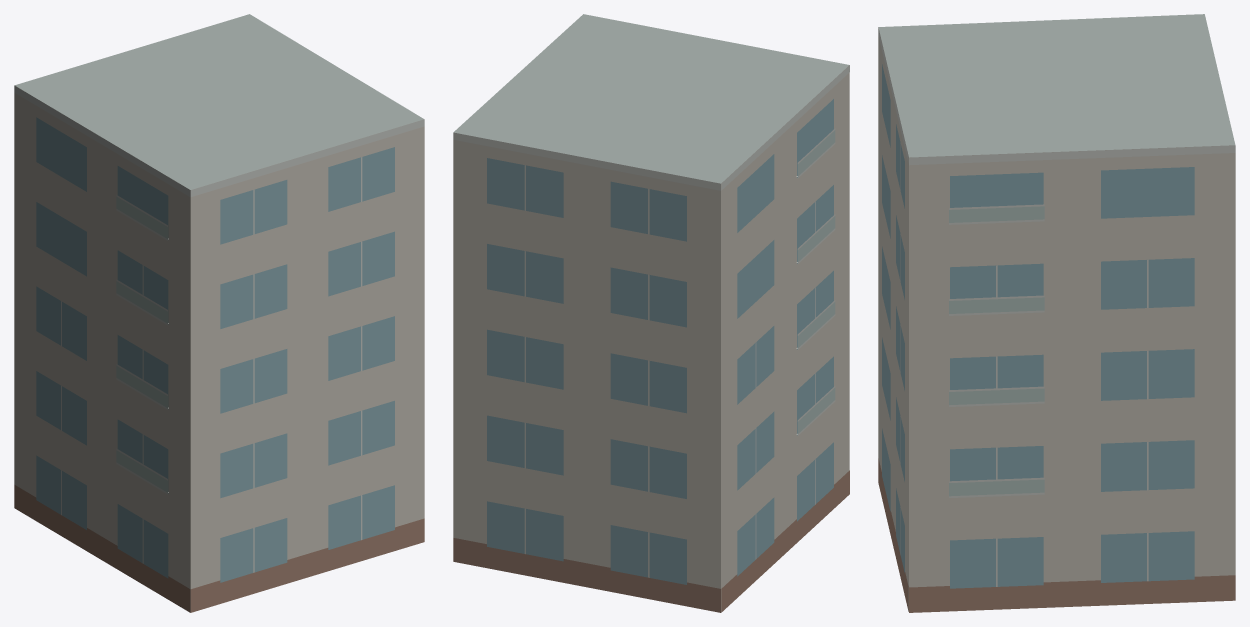
File: survey-upis-32638636.glb
The picture shows the model from 3 angles, left to right: view 1: azimuth 30°, elevation 25°; view 2: azimuth 150°, elevation 25°; view 3: azimuth 270°, elevation 25°; orthographic projection. The views are drawn at different scales.
Parts seen in each view (by area): view 1: survey-upis-32638636.tmp; view 2: survey-upis-32638636.tmp; view 3: survey-upis-32638636.tmp.
Boxes of the visible parts, x1,y1,x2,y2 form: survey-upis-32638636.tmp: (14, 14, 424, 612); survey-upis-32638636.tmp: (453, 14, 849, 612); survey-upis-32638636.tmp: (878, 14, 1235, 612).
Size of the model in its own units: 9.74 by 14.4 by 10.24.
